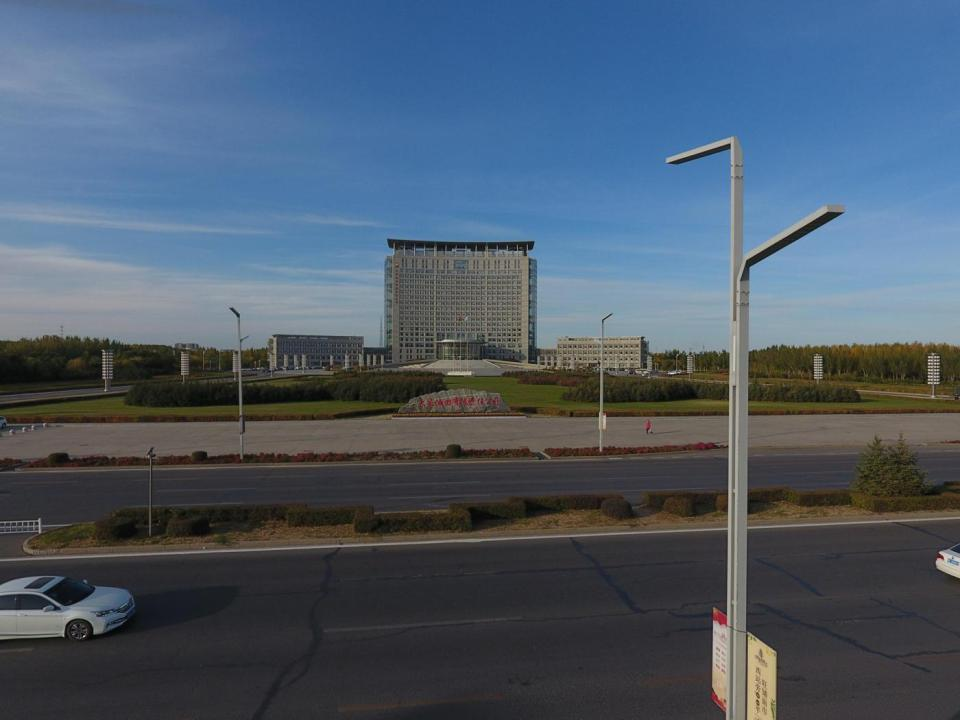car: (0, 574, 138, 644)
